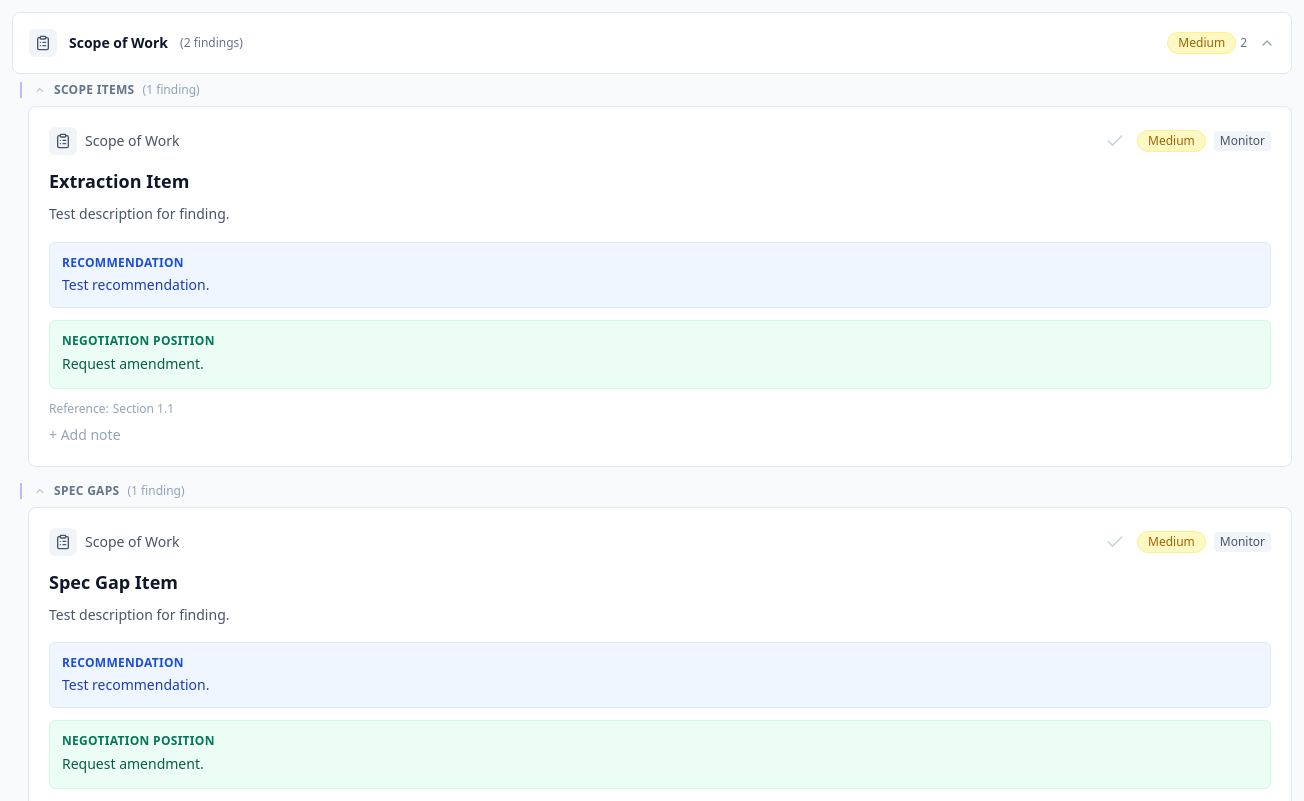
CategorySection › subcategory headers are clickable and toggle collapse/expand
Expected: the heading "Extraction Item" is shown, x1=49 y1=169 x2=189 y2=193
Expected: the heading "Spec Gap Item" is shown, x1=49 y1=570 x2=178 y2=594
// Click the "Scope Items" subcategory header to collapse it
Click the text "Scope Items". click: click(94, 90)
box: x1=54 y1=82 x2=134 y2=98
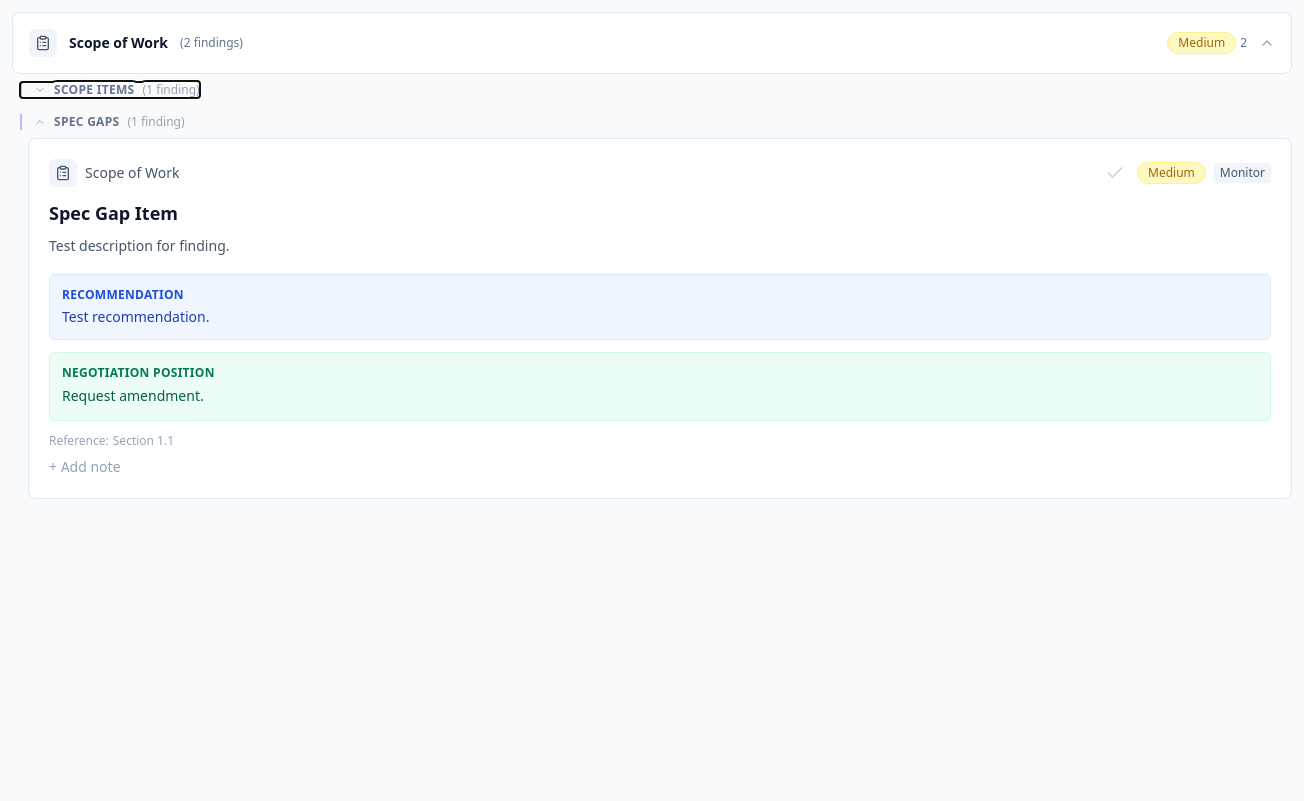
Expected: the heading "Spec Gap Item" is shown, x1=49 y1=201 x2=178 y2=225
Now the heading "Extraction Item" is gone
